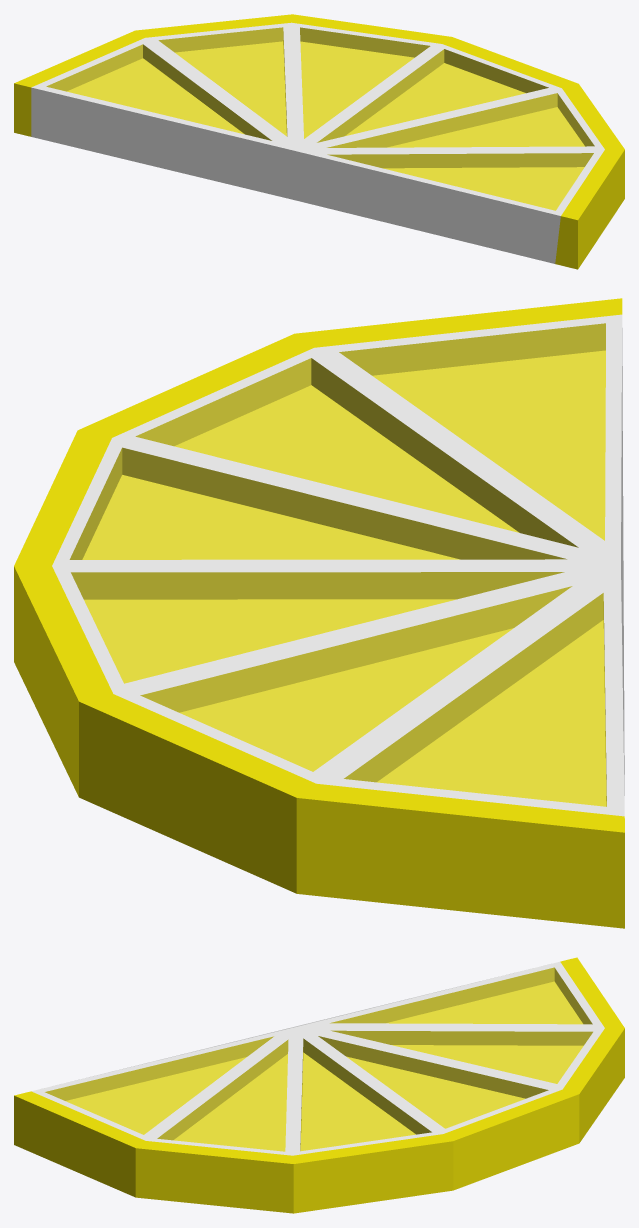
Rendered from lemom-slice2.fbx.
3 renders of one model, top to bottom at view 1: azimuth 30°, elevation 25°; view 2: azimuth 150°, elevation 25°; view 3: azimuth 270°, elevation 25°, orthographic. The views are drawn at different scales.
Visible parts, largest first — view 1: Cube.009; view 2: Cube.009; view 3: Cube.009.
Part boxes in pixels (left/top/right/bottom): Cube.009: left=14, top=14, right=624, bottom=269; Cube.009: left=14, top=298, right=624, bottom=928; Cube.009: left=14, top=957, right=624, bottom=1213.
Bounding box in the file's own units: 70.83 × 7.9 × 88.47.
